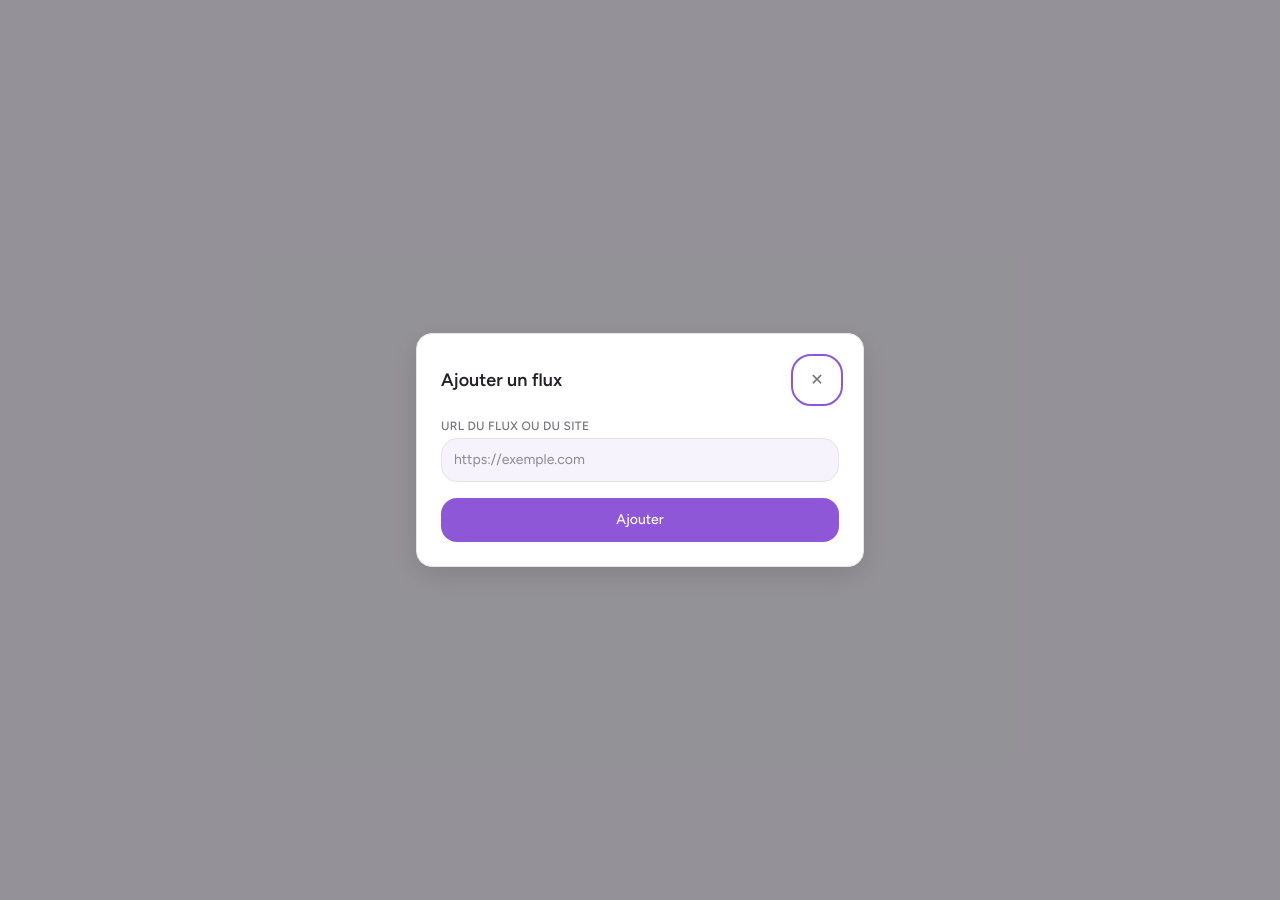
Test: AddFeedDialog › affiche un message ciblé pour already_subscribed
The width and height of the screenshot is (1280, 900).
Type "https://blog.example/feed.xml" into the field labelled "URL du flux ou du site".
click(640, 460); type("https://blog.example/feed.xml")  # box left=441, top=438, right=839, bottom=482
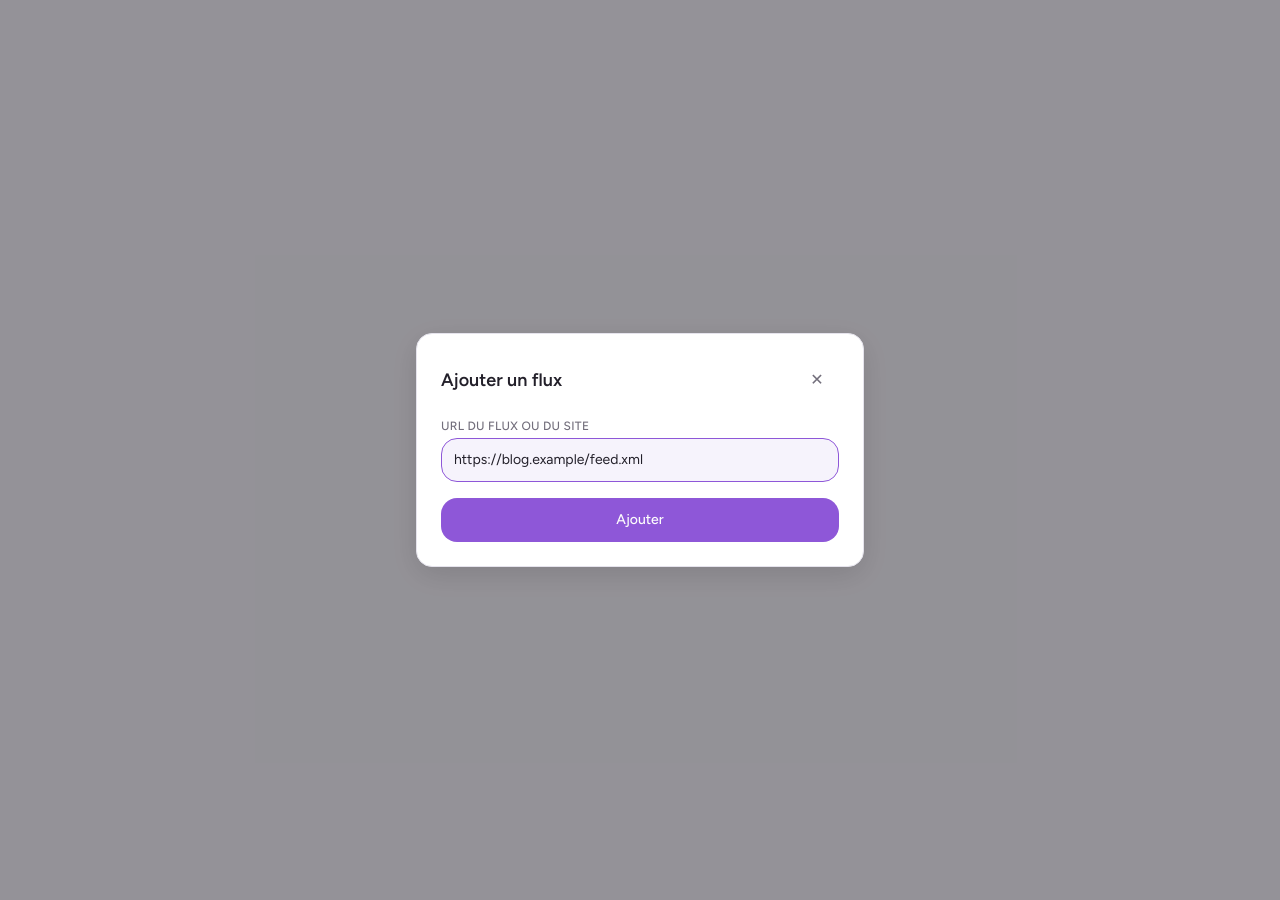
Click the button "Ajouter".
click(640, 520)  # box left=441, top=498, right=839, bottom=542
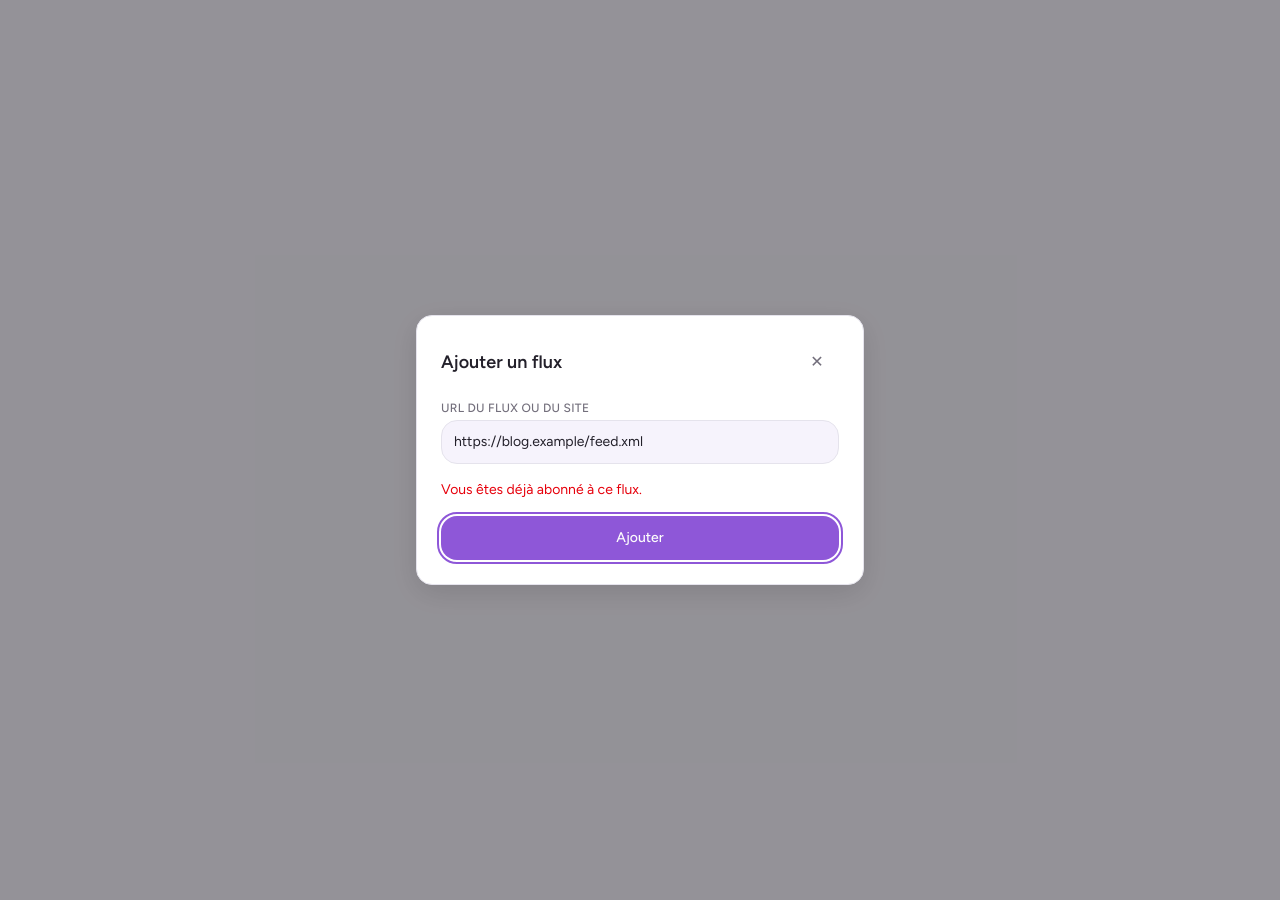
Result: the message shows "déjà abonné" at left=441, top=481, right=642, bottom=498
